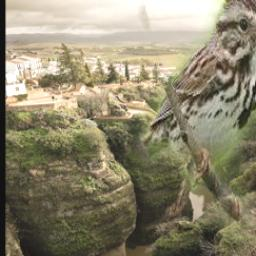Sparrow: (87, 0, 256, 238)
